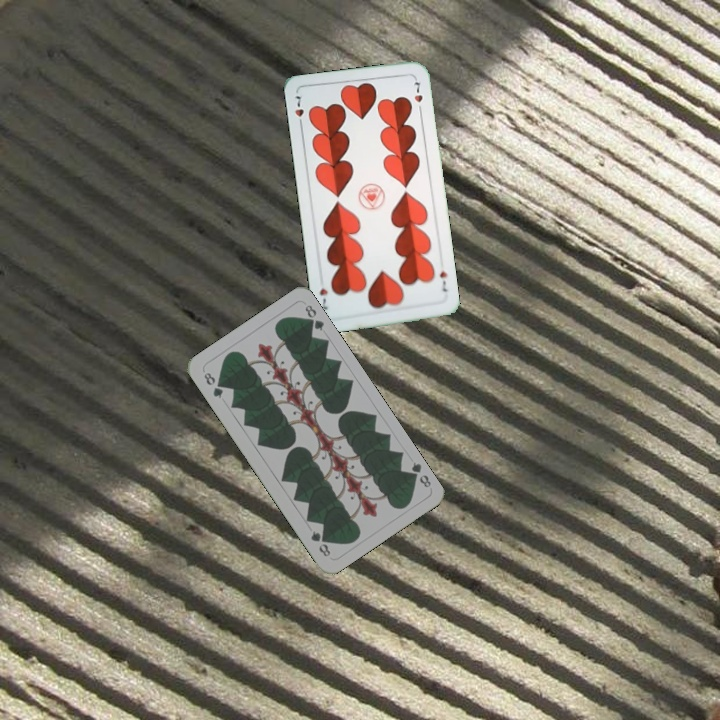G8: (404, 458, 434, 490), (200, 368, 226, 401)
H7: (291, 92, 306, 130), (436, 267, 450, 294)
